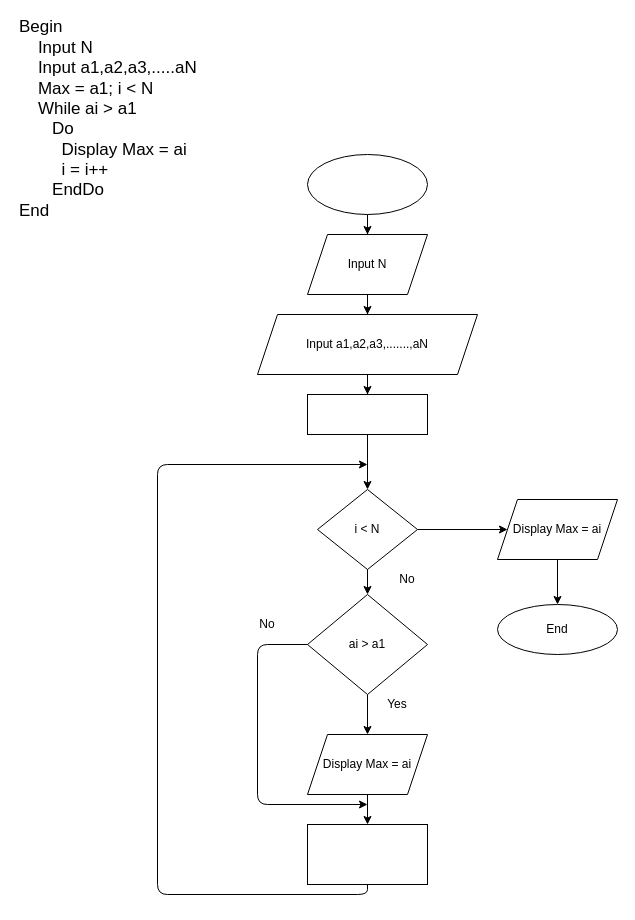
Image size: 635x920. Some labels were removed from this diagram. The centre of each missing label's shape, as x and y in pixels:
Begin: point 367,184
i = i++: point 367,854
Max = a1: point 367,414
